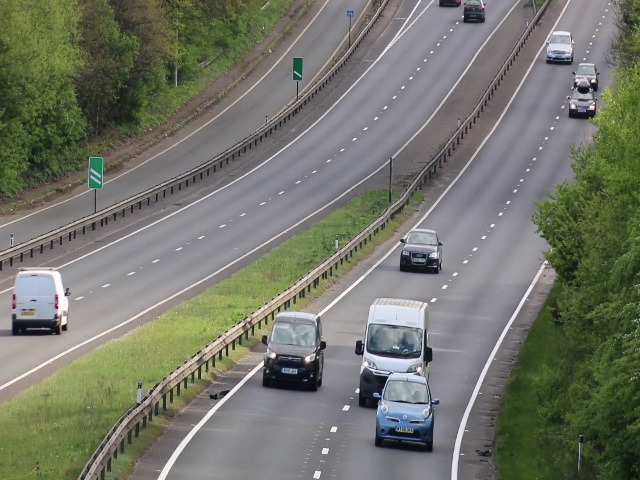car: (261, 314, 321, 391), (10, 267, 69, 334), (376, 380, 431, 451), (363, 311, 422, 369), (399, 228, 444, 272), (546, 31, 573, 66), (568, 89, 595, 119), (574, 64, 596, 78)
